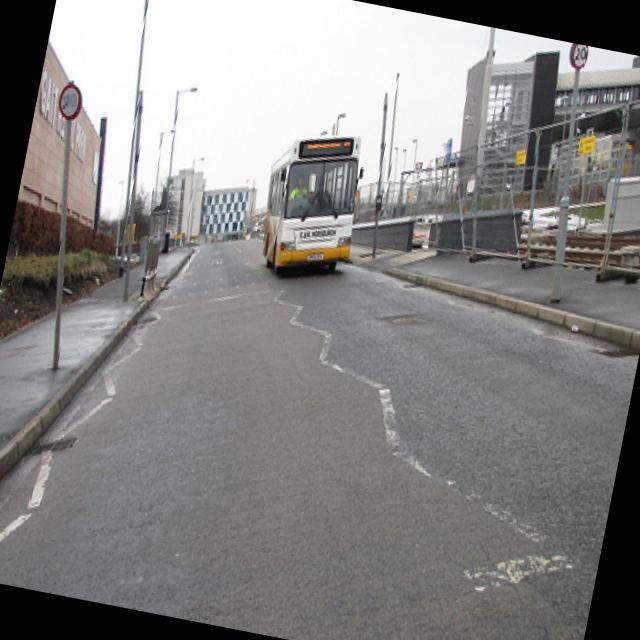Vehicle: (252, 122, 372, 286)
